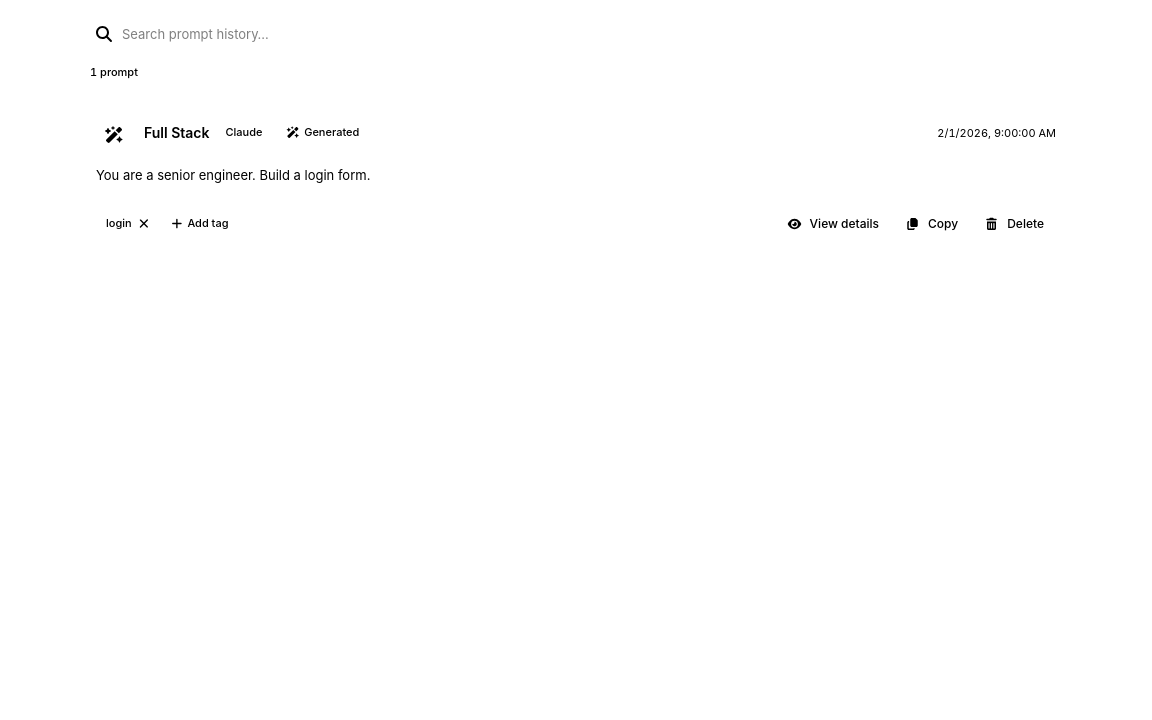
it: PromptHistoryPage list › opens the details of one entry, showing the input it came from
Click the button "View details": (833, 224) [775, 210, 891, 238]
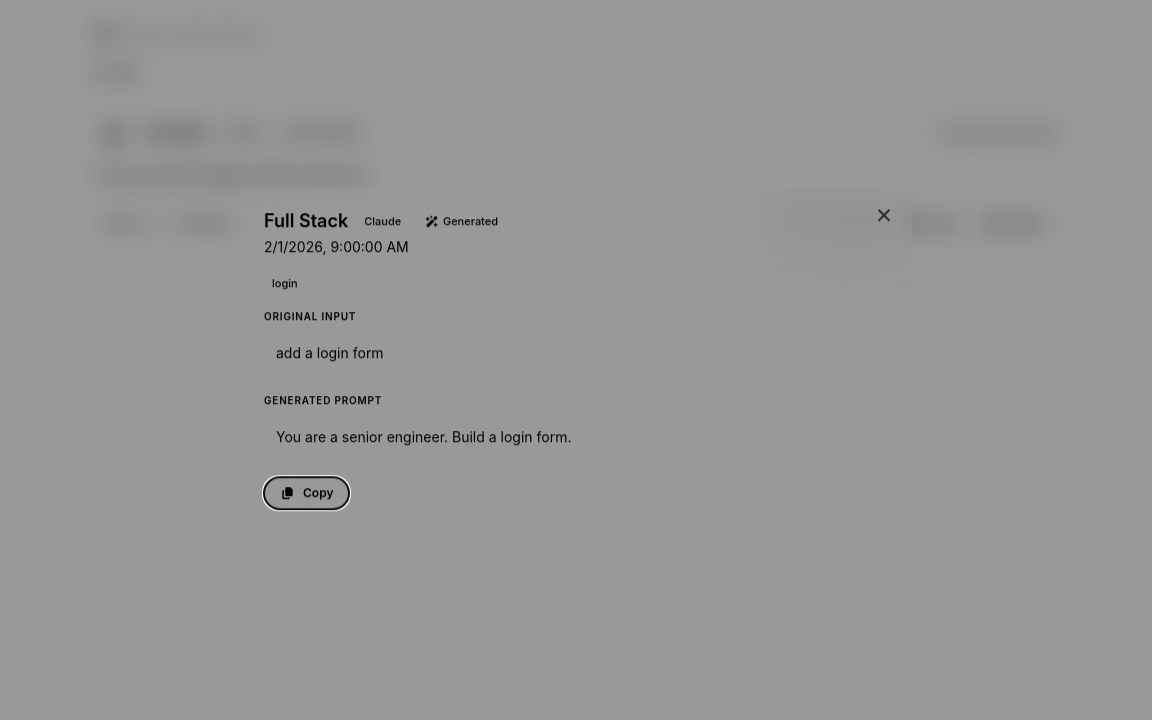
Result: the text "Original input" is shown at [264, 310, 356, 322]
Result: the text "add a login form" is shown at [276, 344, 384, 361]
Result: the text "Generated prompt" is shown at [264, 394, 382, 406]
